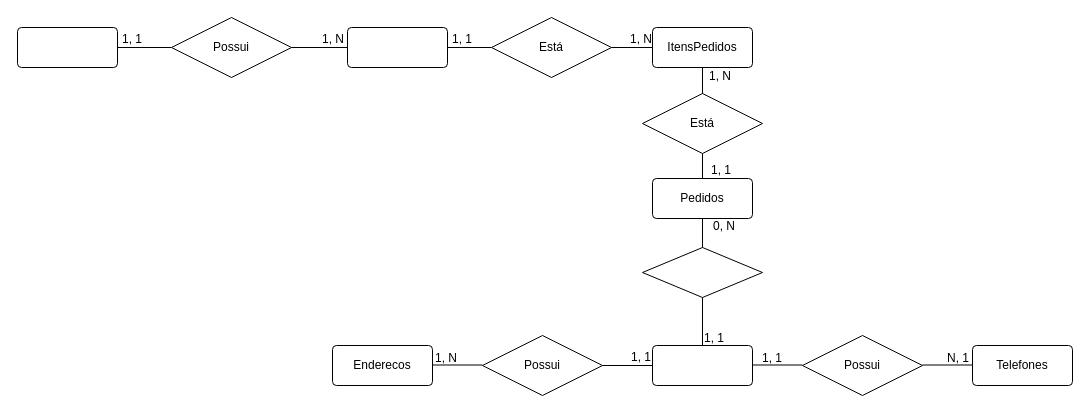
Image size: 1090x413. Some labels were removed from this diagram. Each missing label, with the centre of its shape:
"Categorias" belongs at [67,47].
"Clientes" belongs at [702,365].
"Produtos" belongs at [397,47].
"Solicita" belongs at [702,272].
